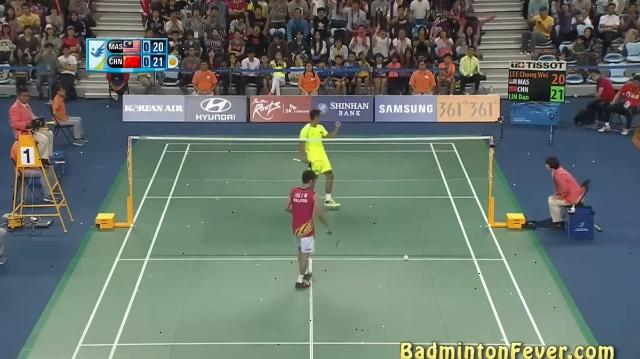Shuttlecock: (402, 253, 413, 263)
